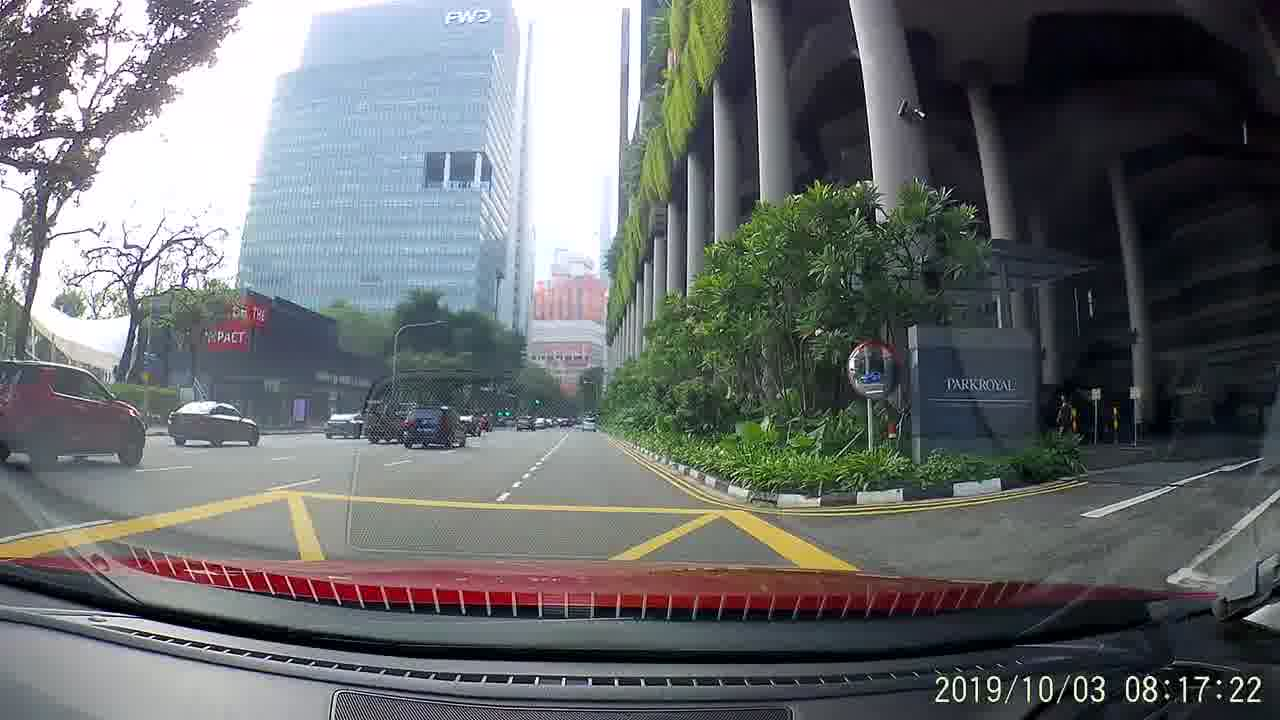car: (3, 356, 148, 470), (166, 398, 264, 449), (403, 402, 465, 448), (322, 408, 365, 440), (513, 415, 538, 434), (580, 416, 599, 432)
